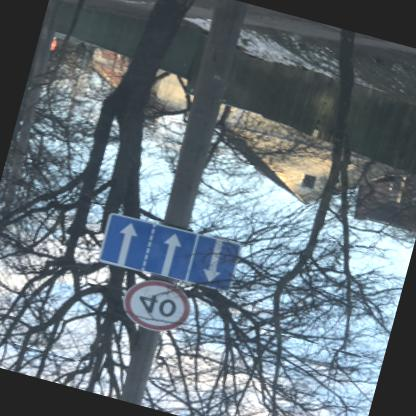speedlimit: (116, 272, 193, 338)
